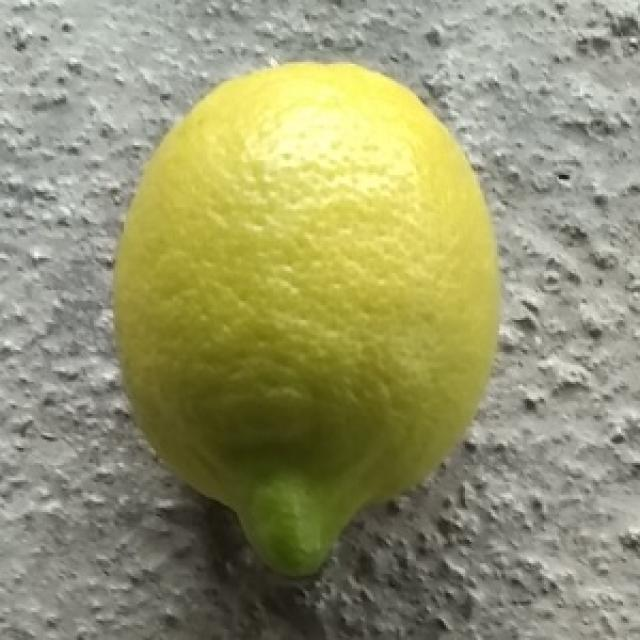Lemon: (110, 62, 503, 583)
